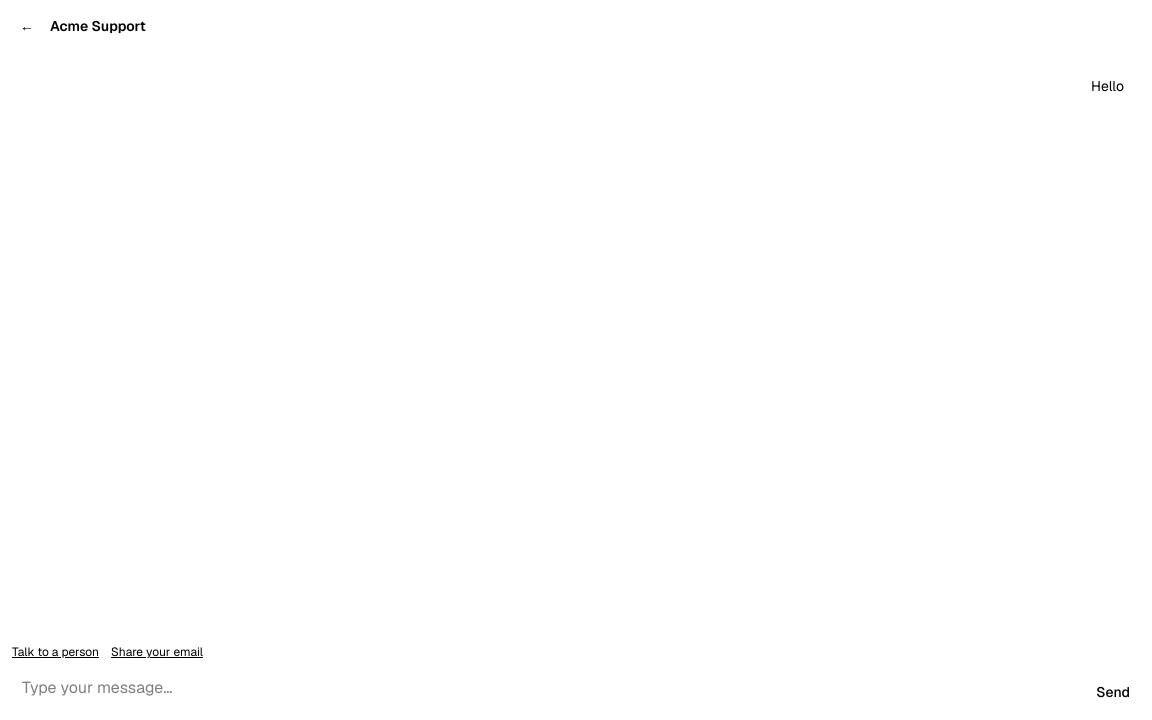
Test: ChatWidget › requests a human and shows the handoff state
Click the button "Talk to a person" at (56, 652), box [12,644,99,660]
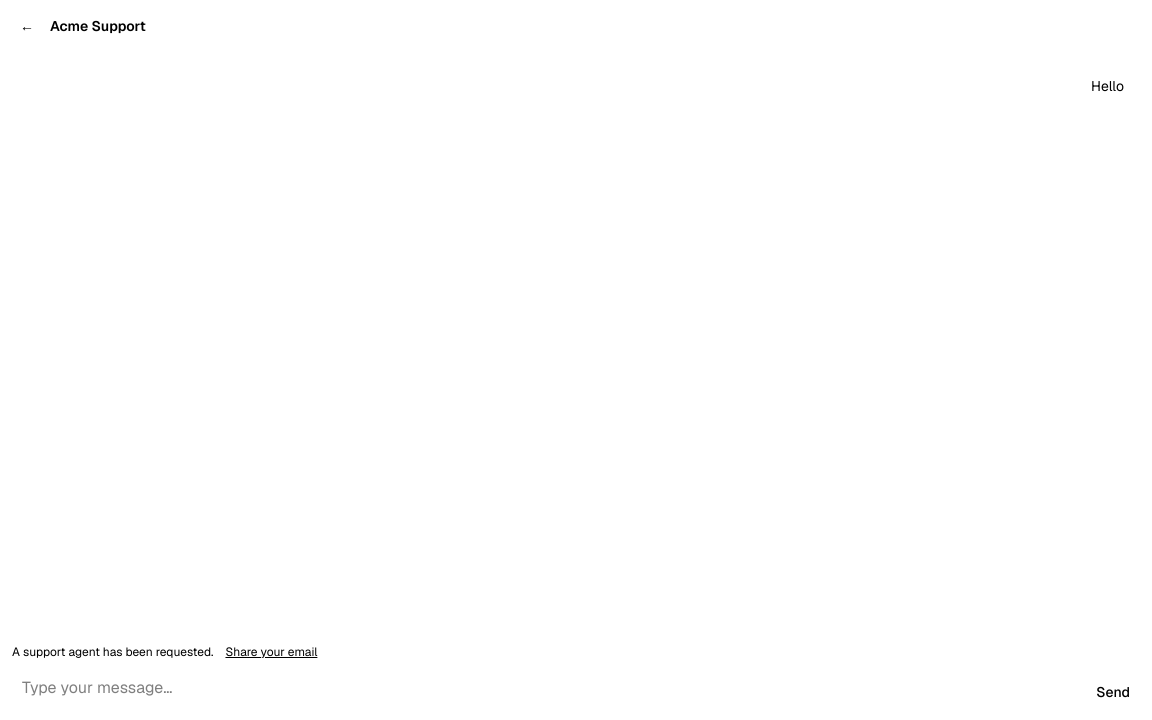
Check: the text "A support agent has been requested." is shown, box [12,644,214,660]
Check: the button "Talk to a person" is gone
